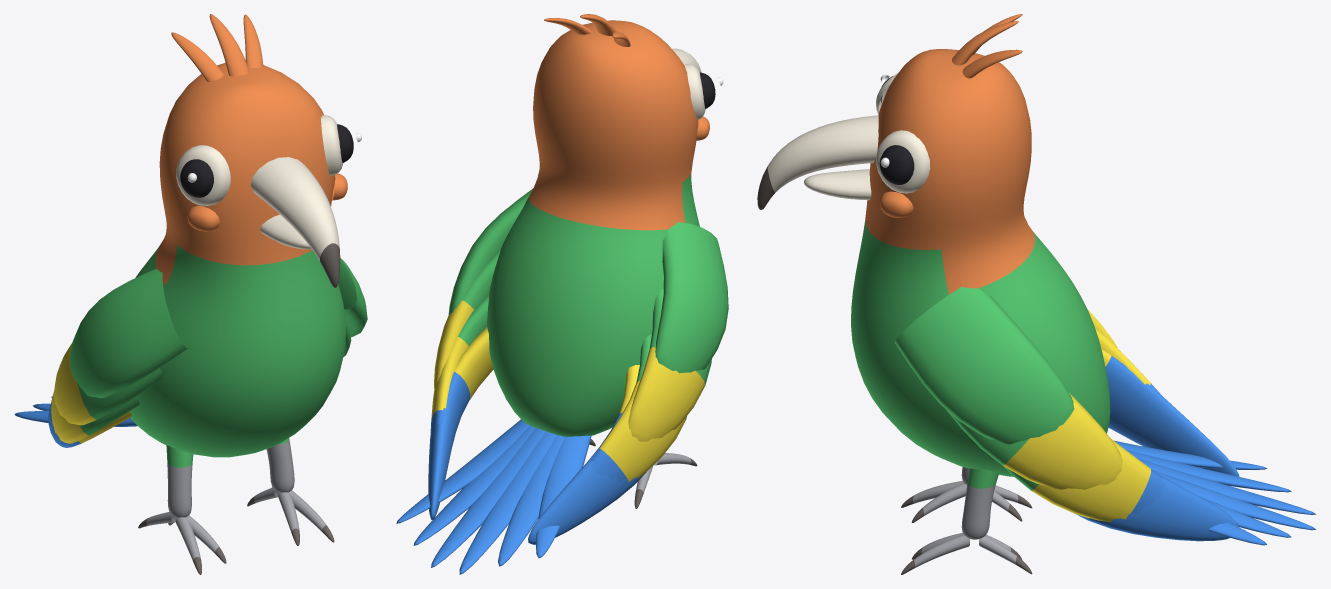
Rendered from Kiwi.fbx.
3 views of the same model, side by side, from view 1: azimuth 30°, elevation 25°; view 2: azimuth 150°, elevation 25°; view 3: azimuth 270°, elevation 25° (orthographic). The views are drawn at different scales.
Parts seen in each view (by area): view 1: Kiwi; view 2: Kiwi; view 3: Kiwi.
Part boxes in pixels (left/top/right/bottom): Kiwi: left=14, top=14, right=367, bottom=574; Kiwi: left=396, top=14, right=728, bottom=574; Kiwi: left=757, top=14, right=1315, bottom=574.
Bounding box in the file's own units: 22.88 × 42 × 40.92.
